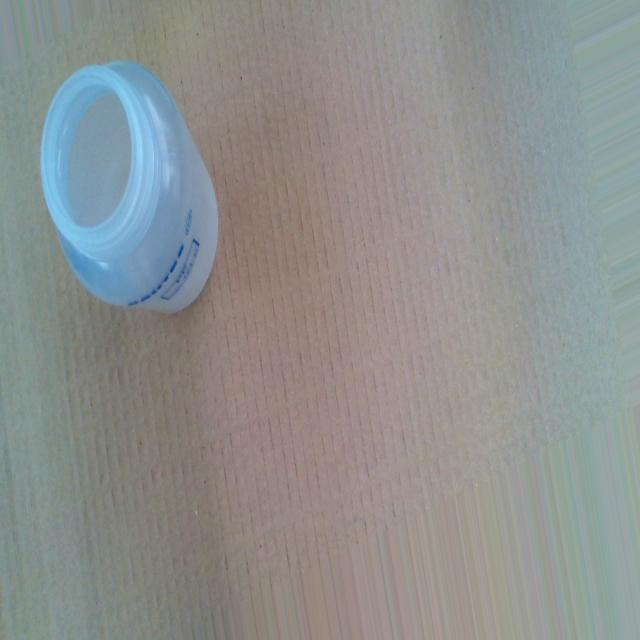bottle: (38, 52, 222, 320)
